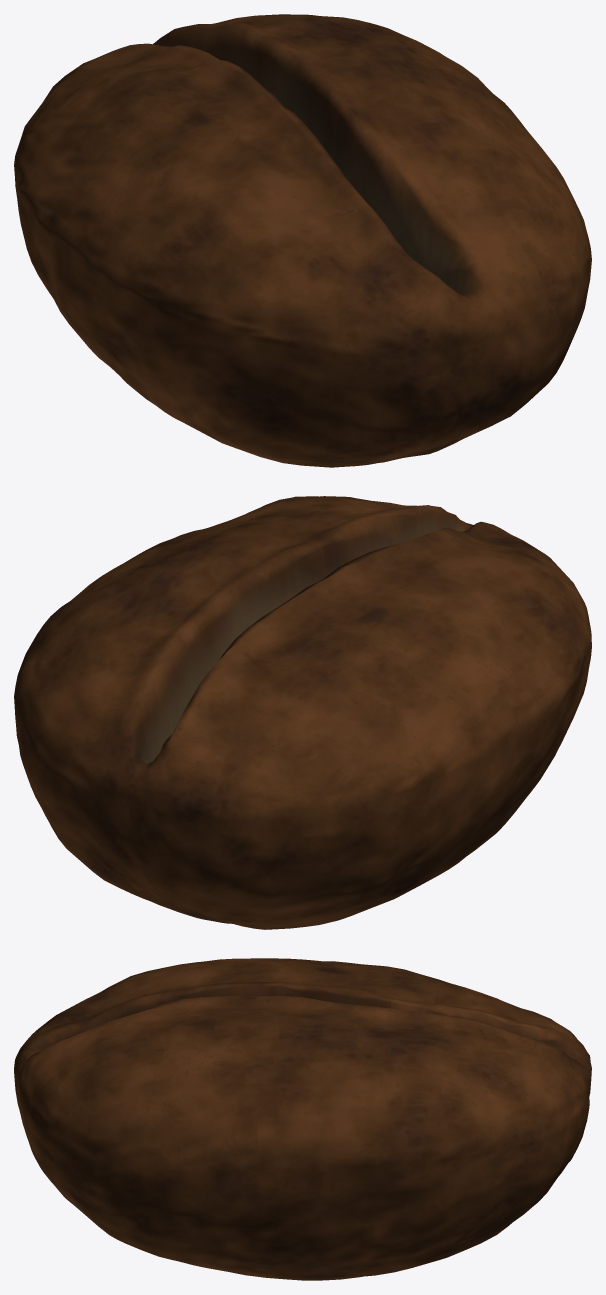
Rendered from coffee-bean-optimized.glb.
The picture shows the model from 3 angles, top to bottom: view 1: azimuth 30°, elevation 25°; view 2: azimuth 150°, elevation 25°; view 3: azimuth 270°, elevation 25°; orthographic projection. The views are drawn at different scales.
Visible parts, largest first — view 1: Bean_00_clasico_std; view 2: Bean_00_clasico_std; view 3: Bean_00_clasico_std.
Boxes of the visible parts, x1,y1,x2,y2 form: Bean_00_clasico_std: [14, 14, 591, 467]; Bean_00_clasico_std: [14, 496, 591, 929]; Bean_00_clasico_std: [14, 958, 591, 1280].
Size of the model in its own units: 0.7289 by 0.5193 by 1.01.
Materials: 1 (1 with a texture image).
